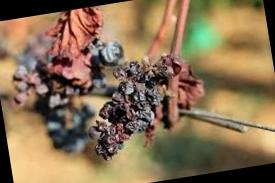Grape Rotten: (0, 0, 214, 175), (76, 45, 212, 164)
